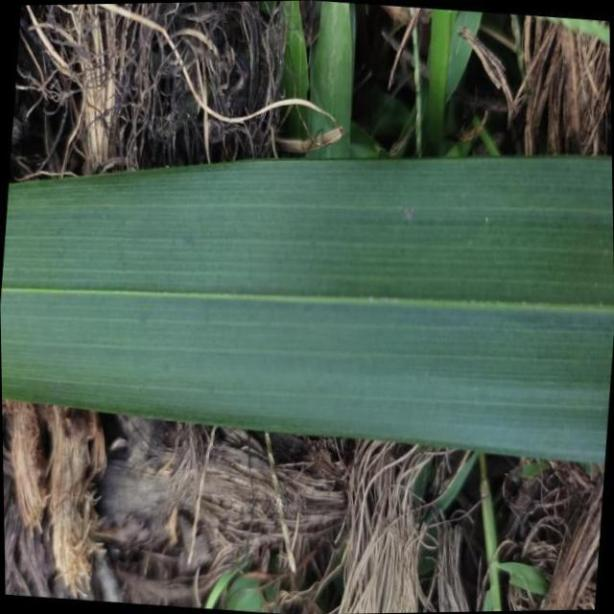Healthy: (5, 155, 614, 467)
